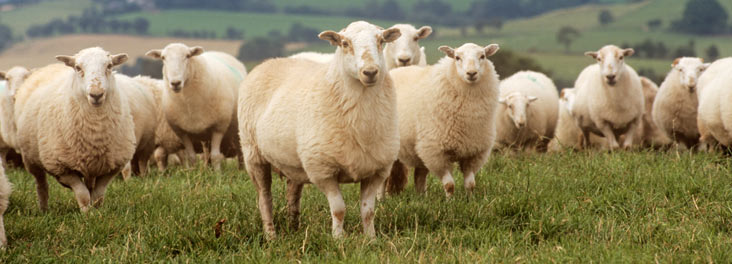sheep: (218, 13, 395, 239), (23, 35, 146, 203), (400, 50, 498, 208), (153, 39, 255, 178), (557, 22, 637, 159), (648, 54, 713, 177), (491, 55, 552, 152), (388, 12, 422, 74)
